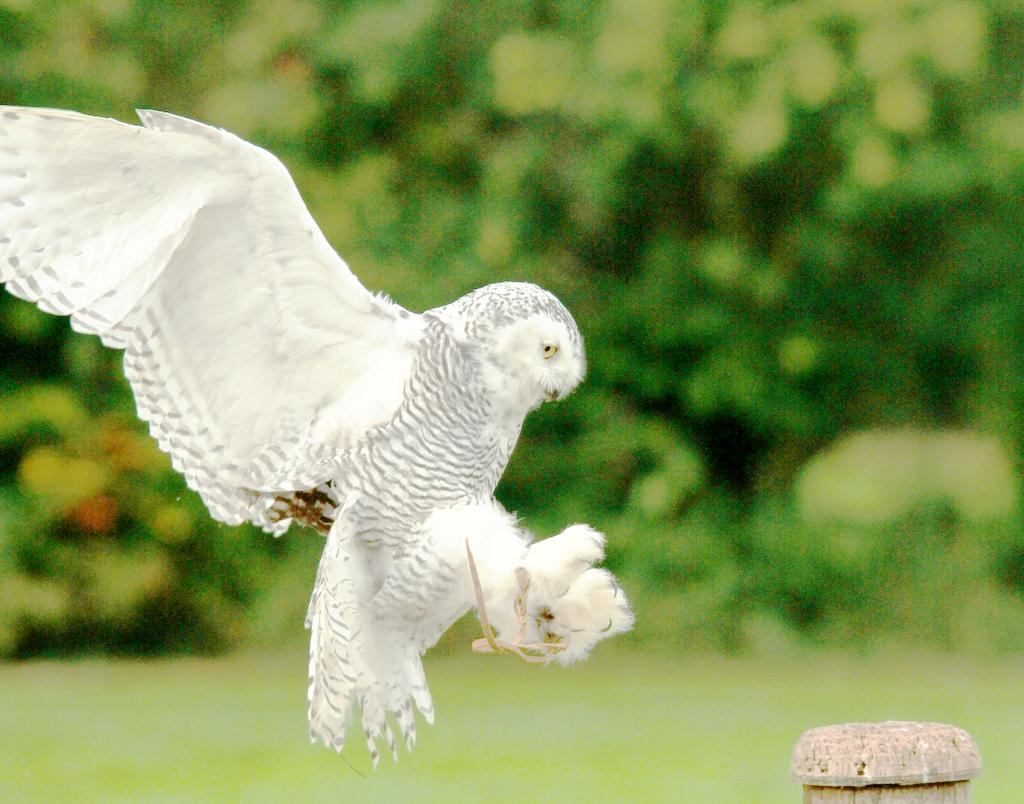Owl: (0, 104, 639, 776)
